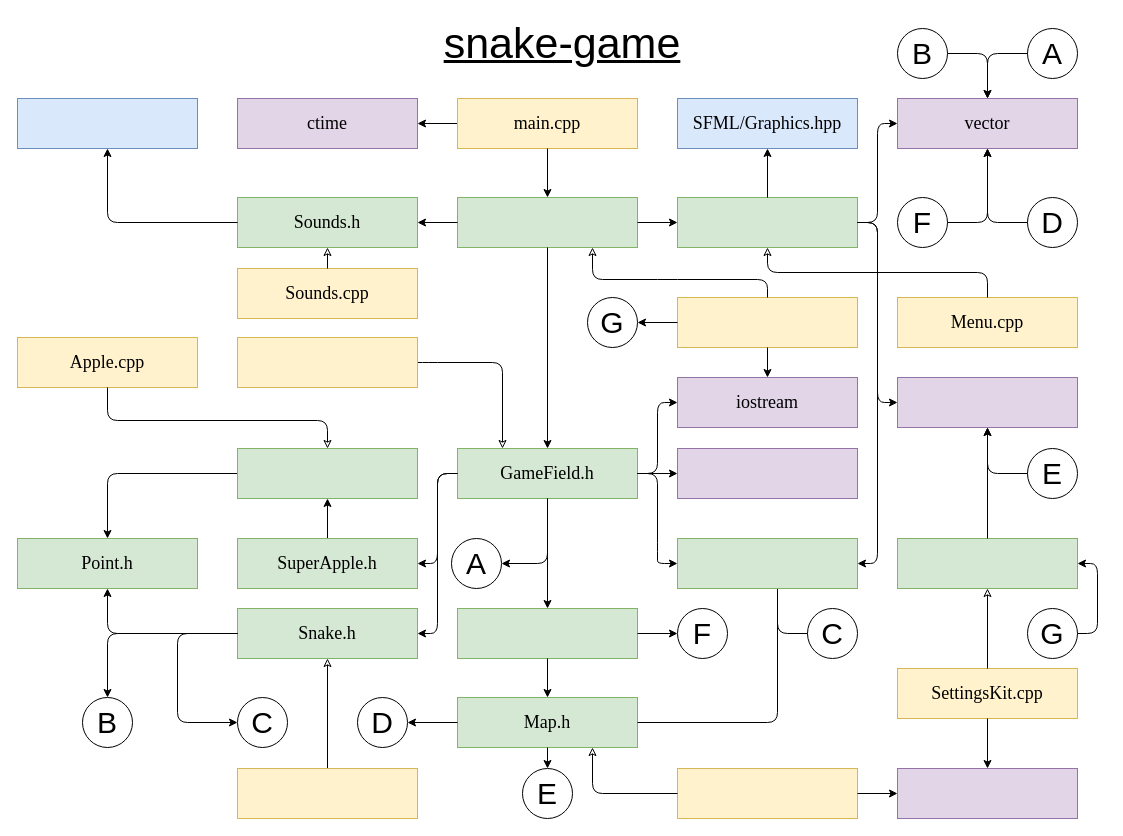
Some shapes in this 1123 by 836 pixel diagram are drawn without their labels. The centre of each missing label's shape, as x and y in pixels:
"Apple.h" goes at [327,473].
"fstream" goes at [987,793].
"GameField.cpp" goes at [327,362].
"MainWindow.cpp" goes at [767,322].
"MainWindow.h" goes at [547,222].
"Map.cpp" goes at [767,793].
"MapsList.h" goes at [547,633].
"Menu.h" goes at [767,222].
"queue" goes at [767,473].
"SettingsKit.h" goes at [987,563].
"SFML/Audio.hpp" goes at [107,123].
"Size.h" goes at [767,563].
"Snake.cpp" goes at [327,793].
"string" goes at [987,402].
